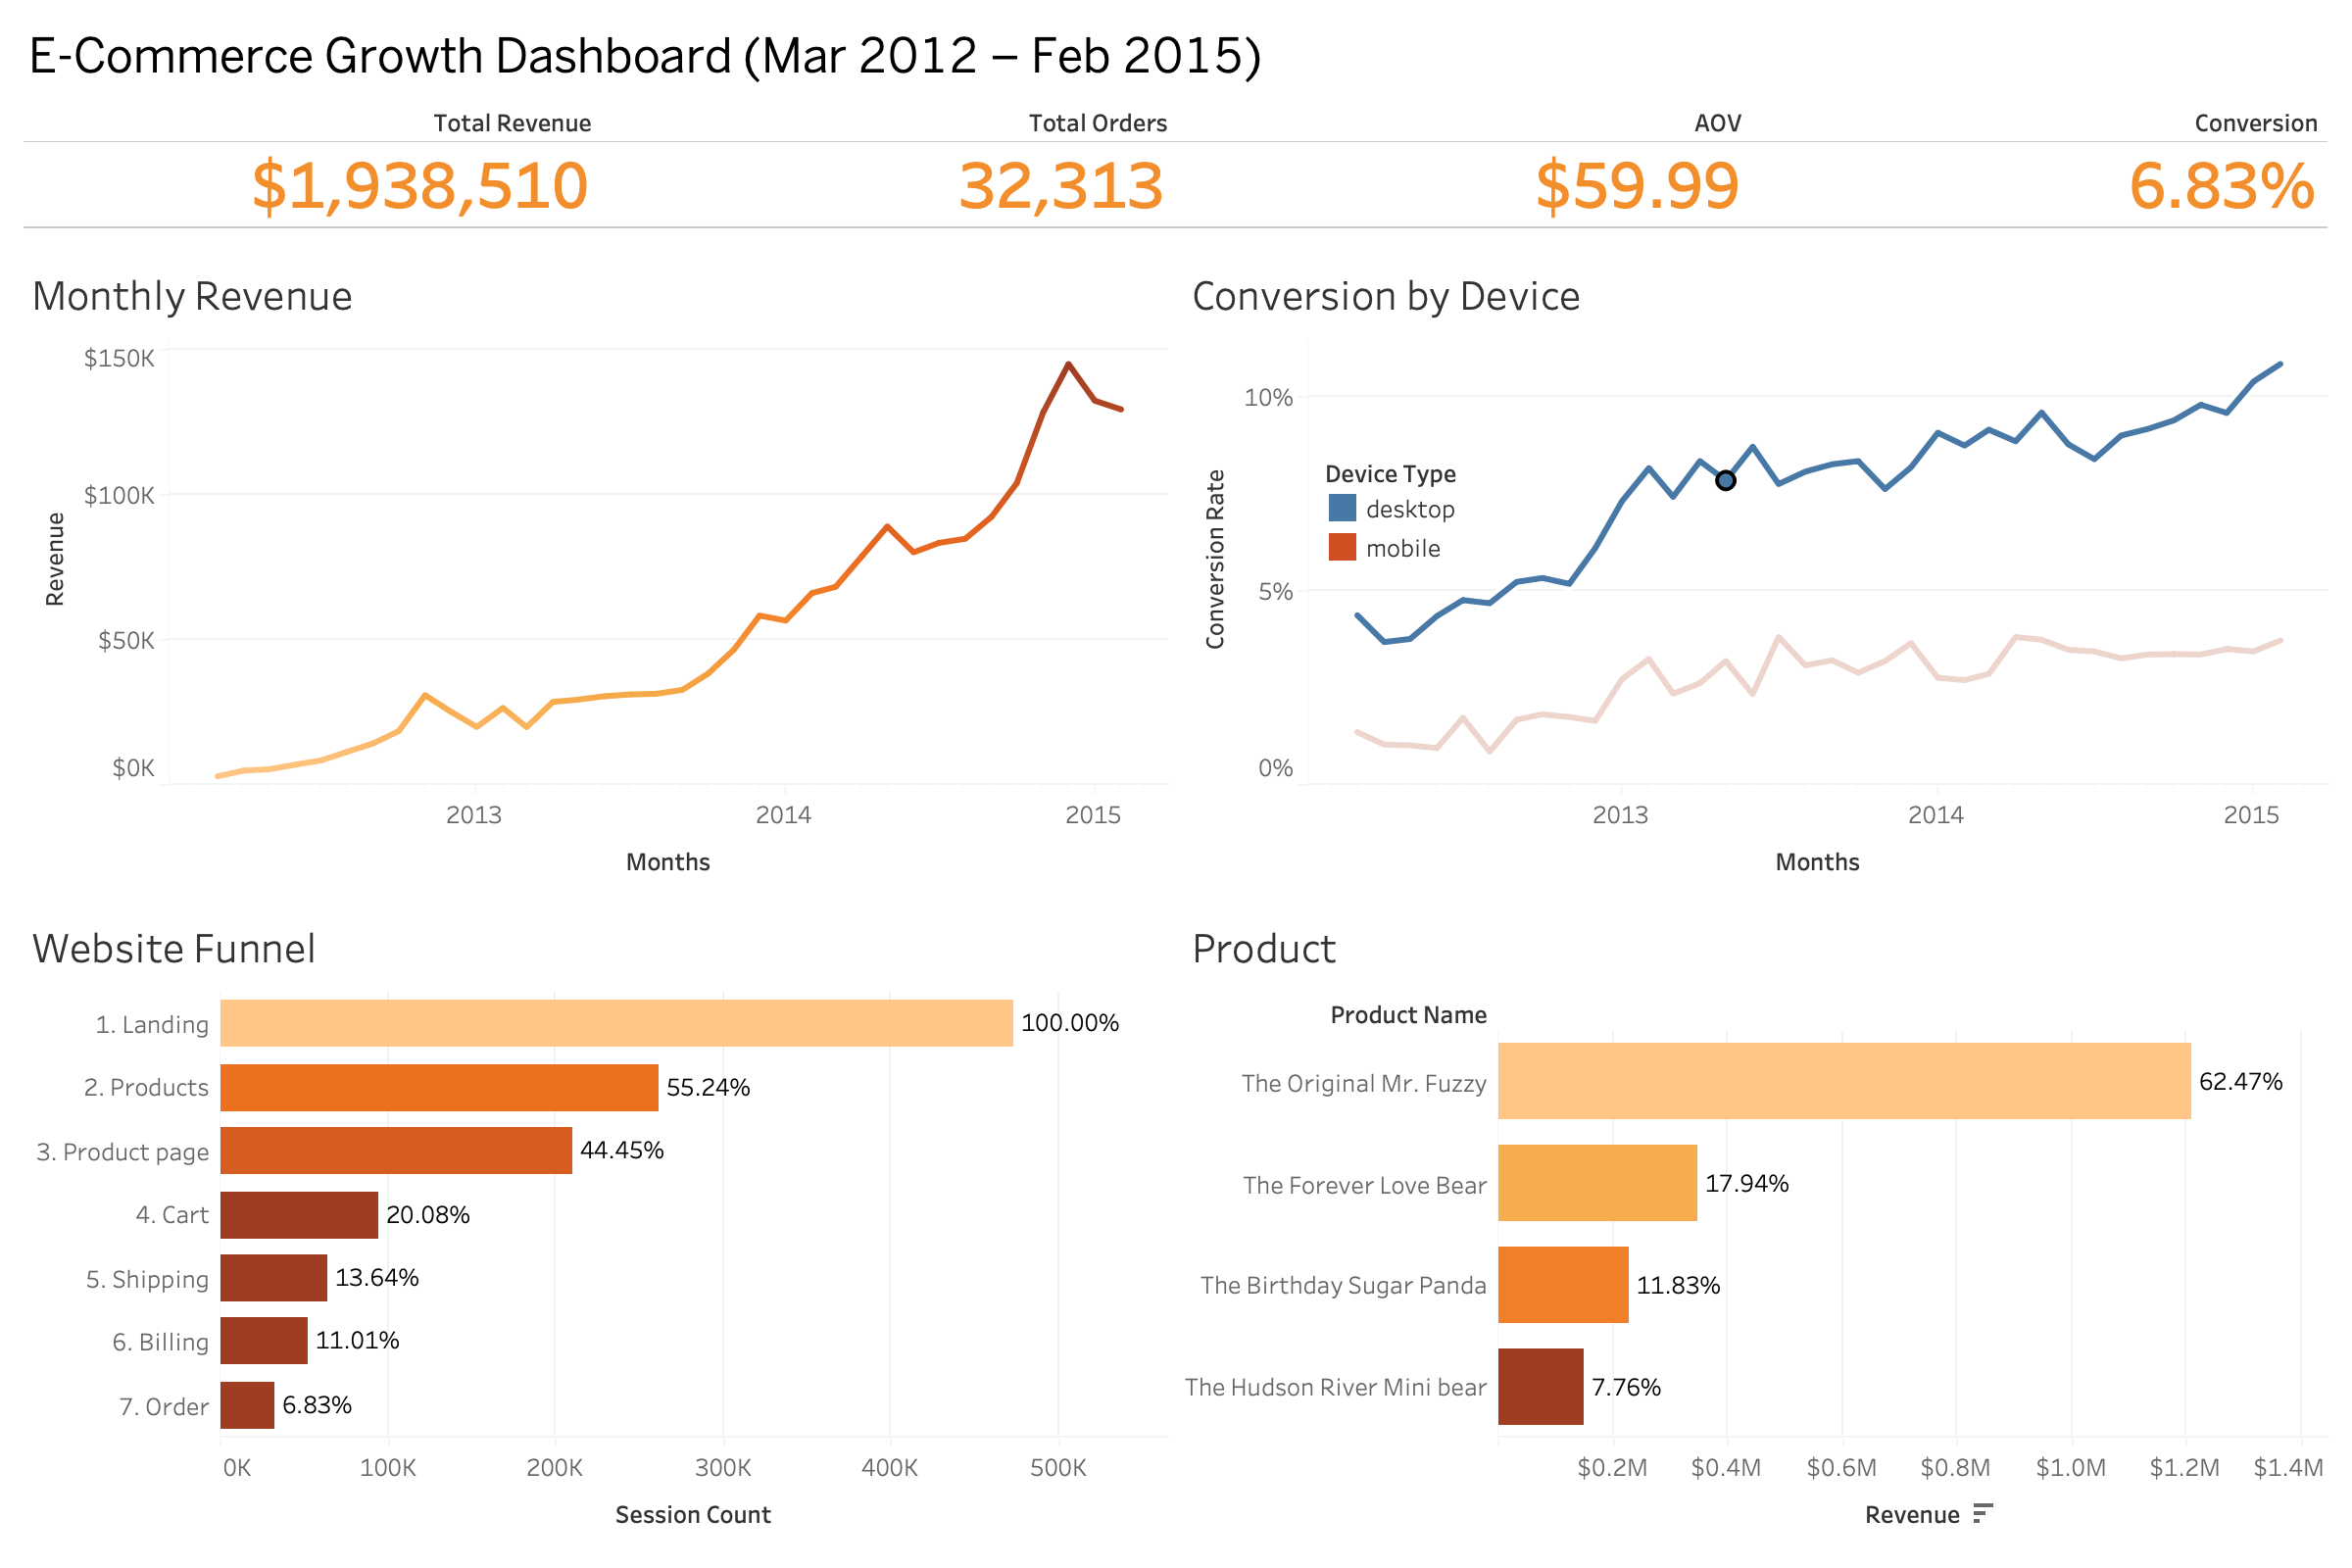

What the dashboard file says about the page in this screenshot:
{"tool":"tableau","page":{"name":"E-Commerce Growth Dashboard (Mar 2012 – Feb 2015)","canvas":[1200,800],"ordinal":0},"visuals":[{"type":"title","box":[8,8,1184,40]},{"type":"worksheet","title":"KPIs","mark":"Automatic","box":[8,48,1184,78]},{"type":"worksheet","title":"Monthly Revenue","mark":"Automatic","rows":["monthly_revenue"],"cols":["months"],"box":[8,126,592,333]},{"type":"worksheet","title":"Conversion by Device","mark":"Automatic","rows":["conversion_rate"],"cols":["months"],"box":[600,126,592,333]},{"type":"legend","title":"Conversion by Device","param":"[federated.1mjjyga0fvv6oz14wxfpn0th1vb2].[none:device_type:nk]","box":[675,231,122,58]},{"type":"worksheet","title":"Website Funnel","mark":"Automatic","rows":["step"],"cols":["session_count"],"box":[8,459,592,333]},{"type":"worksheet","title":"Product","mark":"Automatic","rows":["product_name"],"cols":["revenue"],"box":[600,459,592,333]}]}

Visuals, with their boxes in screenshot pixels (x1, y1, x2, y2), scaled from the page's 1200x800 canvas onto the 2352x1568 screenshot:
title: (16,16,2336,94)
"KPIs" worksheet: (16,94,2336,247)
"Monthly Revenue" worksheet: (16,247,1176,900)
"Conversion by Device" worksheet: (1176,247,2336,900)
"Conversion by Device" legend: (1323,453,1562,566)
"Website Funnel" worksheet: (16,900,1176,1552)
"Product" worksheet: (1176,900,2336,1552)
